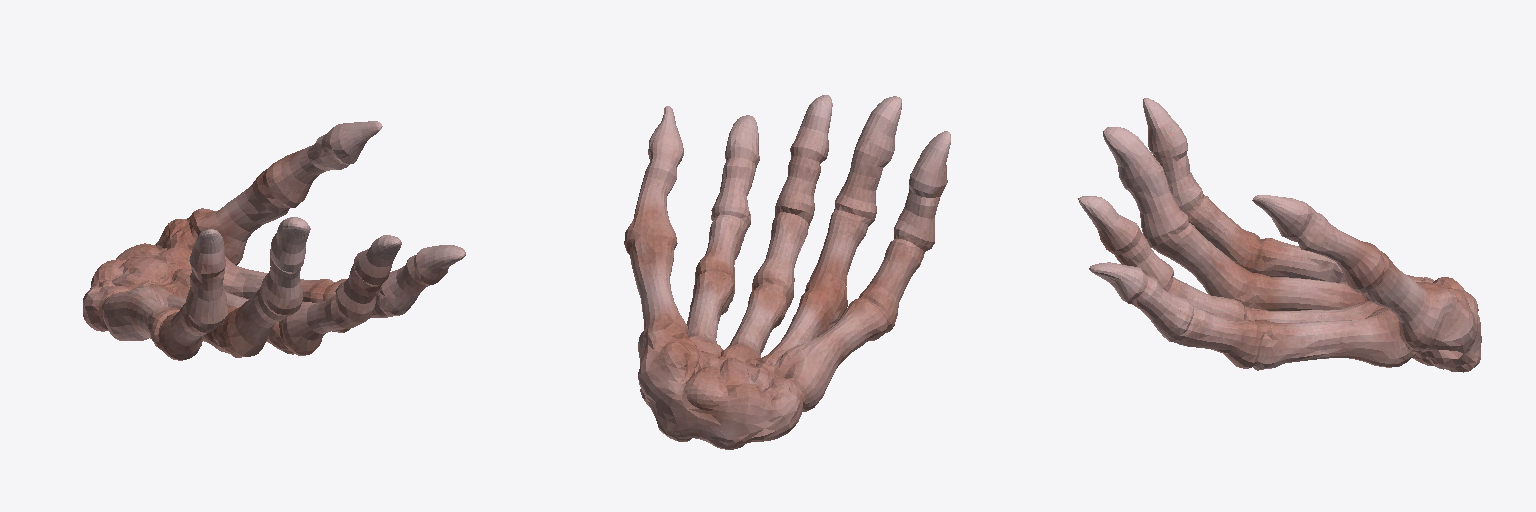
3 views of the same model, side by side, from view 1: azimuth 30°, elevation 25°; view 2: azimuth 150°, elevation 25°; view 3: azimuth 270°, elevation 25° (orthographic).
Visible parts, largest first — view 1: Group37623; view 2: Group37623; view 3: Group37623.
Boxes of the visible parts, <box> form: Group37623: <box>83,121,465,360</box>; Group37623: <box>624,95,950,449</box>; Group37623: <box>1078,98,1481,372</box>.
Size of the model in its own units: 0.801 by 0.7378 by 1.17.
1 materials, 1 textured.